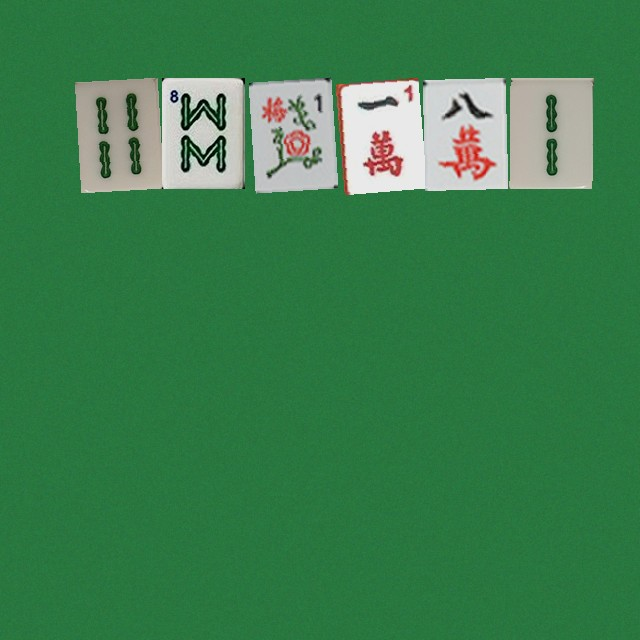tile: (74, 77, 157, 188), (161, 77, 244, 188), (248, 77, 331, 188), (335, 77, 418, 188), (422, 77, 505, 188), (509, 77, 592, 188)
